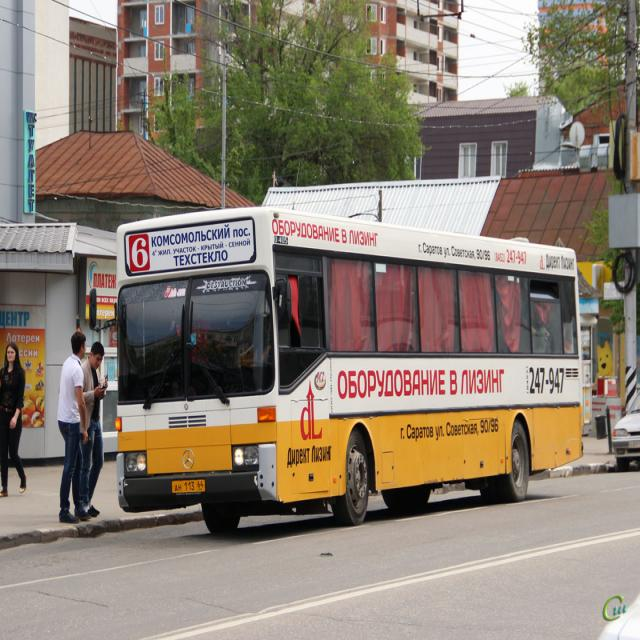number-of-bus: (131, 236, 151, 271)
